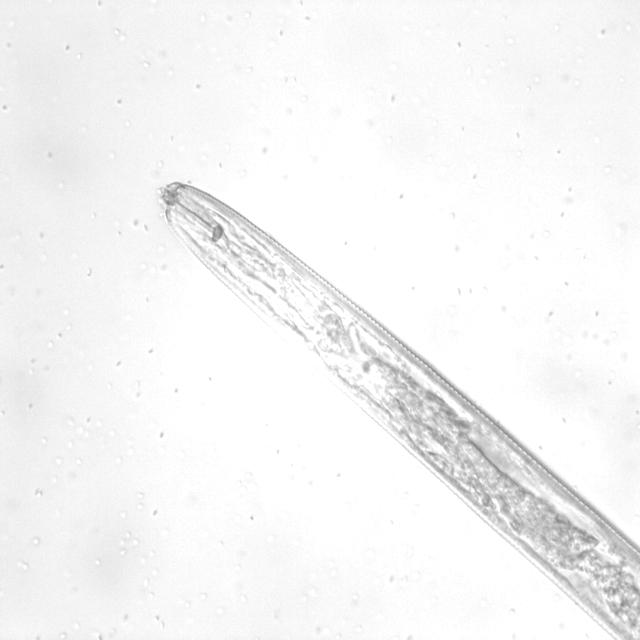Radopholus: (143, 176, 640, 640)
